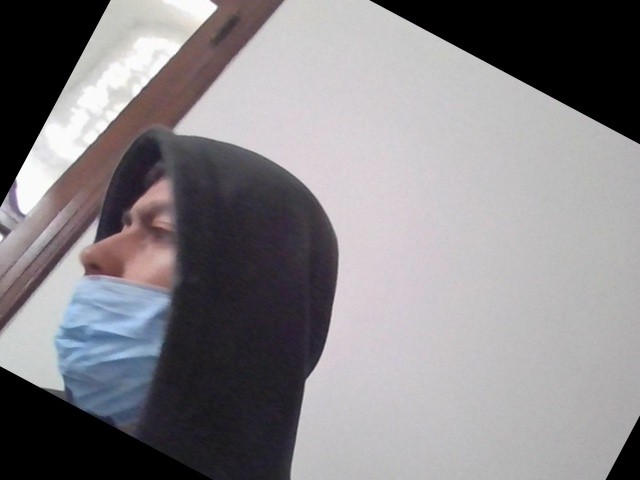mask_weared_incorrect: (51, 156, 201, 428)
